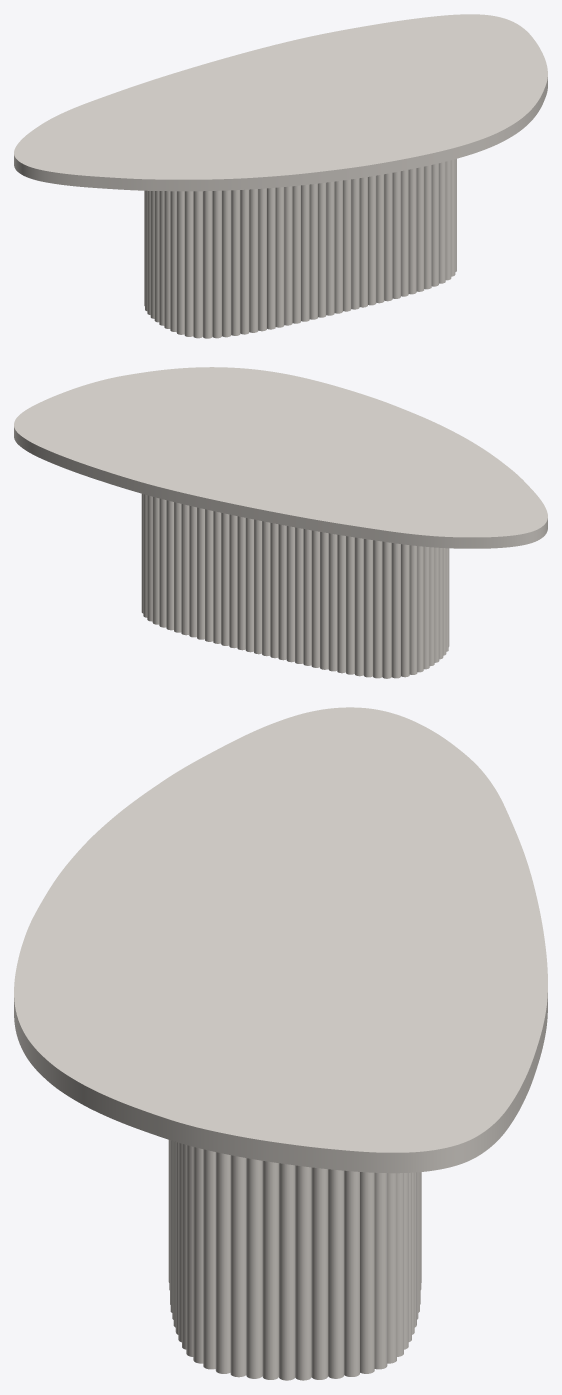
The model's file is pearlwhite_pebbletop_standard_newtable.glb.
3 views of the same model, one above another, from view 1: azimuth 30°, elevation 25°; view 2: azimuth 150°, elevation 25°; view 3: azimuth 270°, elevation 25° (orthographic). The views are drawn at different scales.
Visible parts, largest first — view 1: standard_pebbletop, plane; view 2: standard_pebbletop, plane; view 3: standard_pebbletop, plane.
Boxes of the visible parts, x1=… form: standard_pebbletop: x1=14, y1=14, x2=547, y2=191; plane: x1=144, y1=159, x2=456, y2=338; standard_pebbletop: x1=14, y1=367, x2=547, y2=548; plane: x1=141, y1=494, x2=449, y2=678; standard_pebbletop: x1=14, y1=707, x2=547, y2=1173; plane: x1=168, y1=1140, x2=421, y2=1380.
Size of the model in its own units: 7.5 by 2.51 by 3.8.
Materials: 2 (2 with a texture image).
